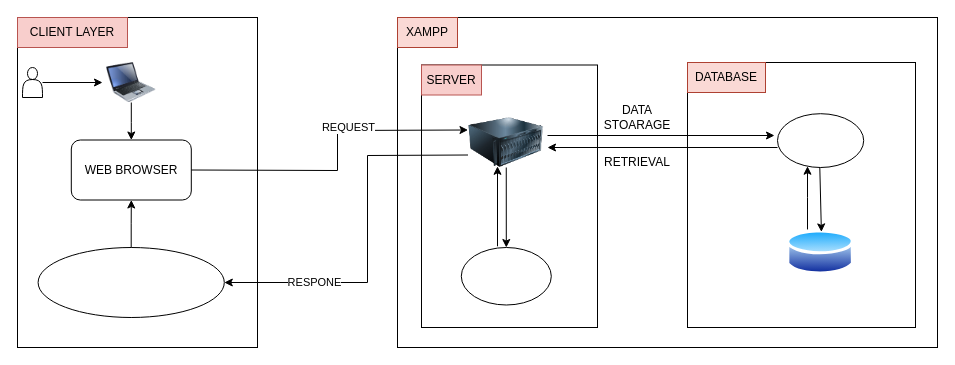
Image size: 955x365. Some labels were removed from this diagram. Here are the shapes that lost their labels. From the top down, the box of each, then its label:
(776, 113, 864, 168): MySQL
(37, 246, 224, 318): HTML5/CSS3/BOOTSTRAP/ JAVASCRIPT/CHART.JS
(460, 246, 551, 305): LARAVEL/PHP
